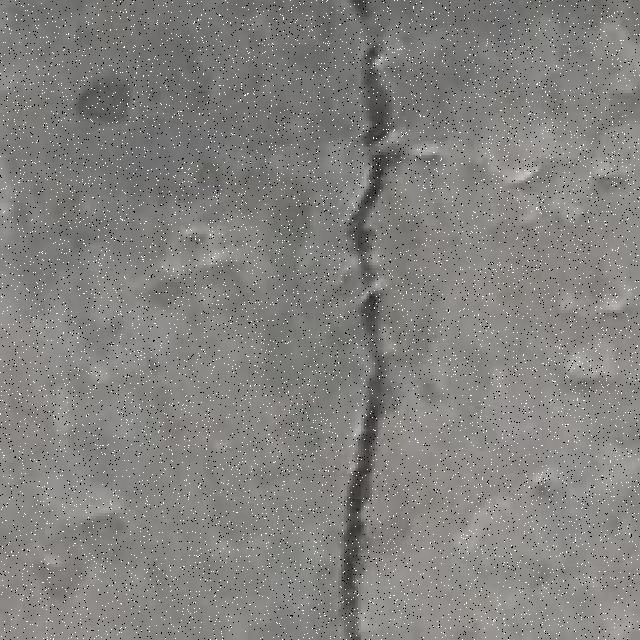Crack: (336, 0, 397, 638)
